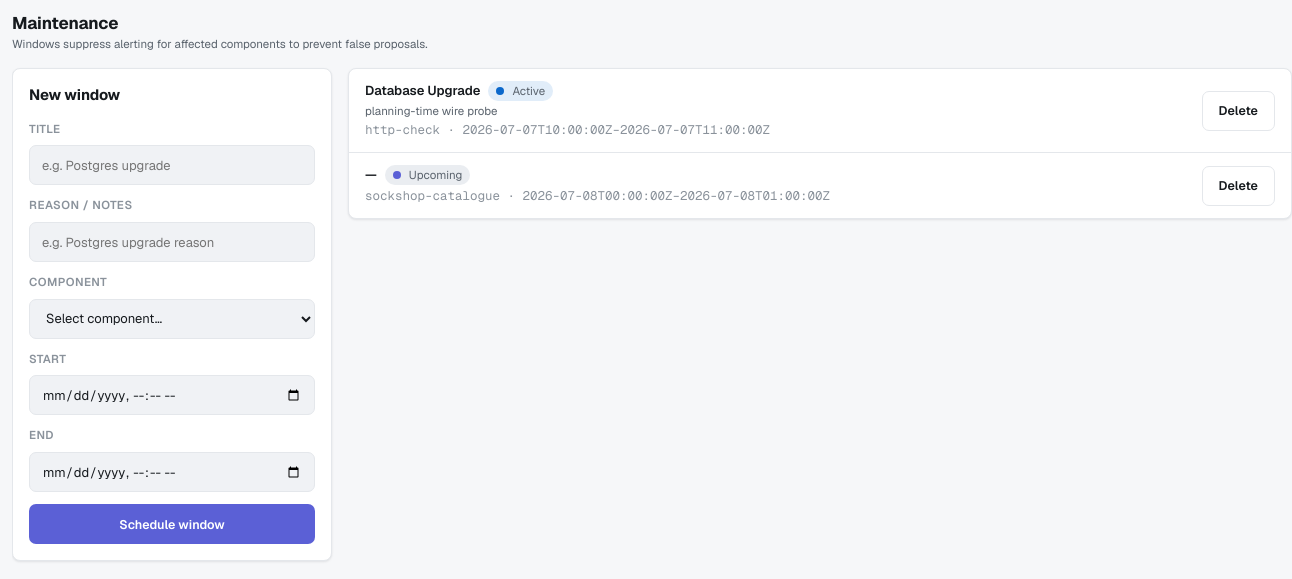
MaintenancePage › renders a non-crashing error banner when a delete fails with 404 (AC5)
Check: the text "http-check" is shown, box [365,121,440,138]
Click the button "Delete" in the row of "2026-07-07T11:00:00Z" at (1238, 111), box [1202,91,1275,131]
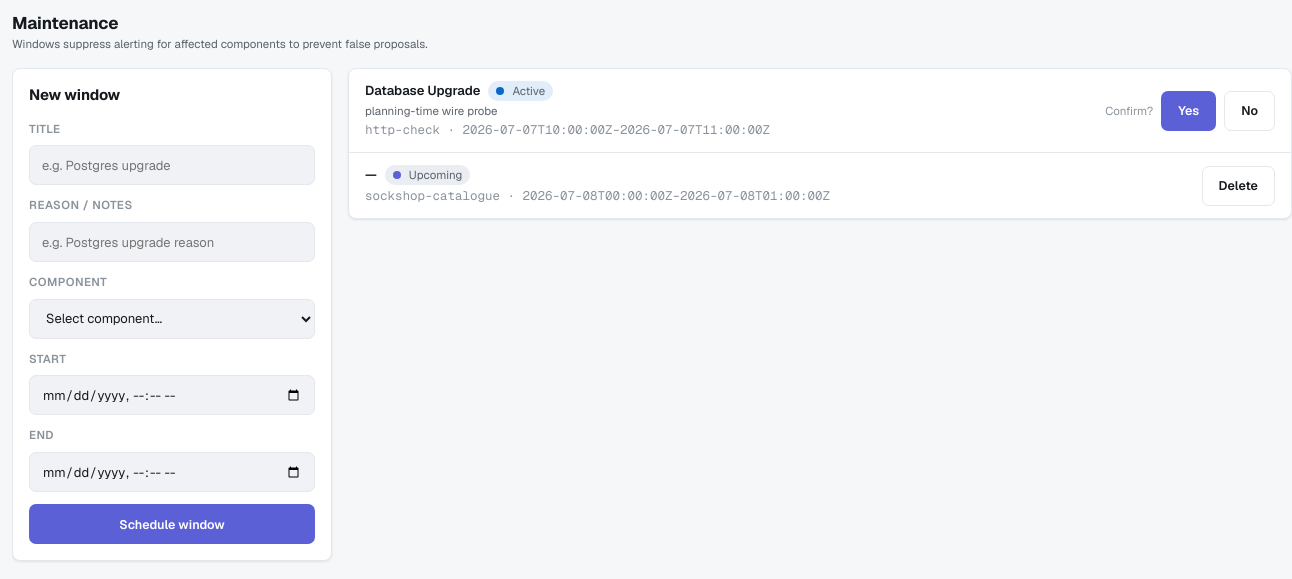
Click the button "Yes" at (1189, 111), box [1161,91,1216,131]
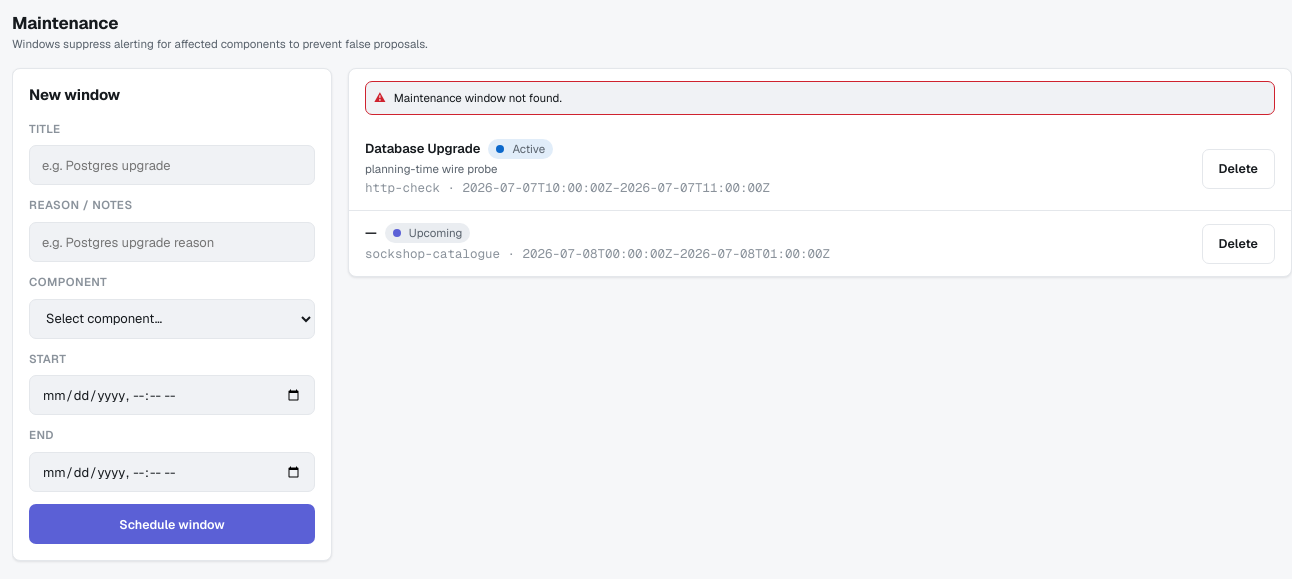
Check: the message shows "Maintenance window not found.", box [394,90,562,105]
